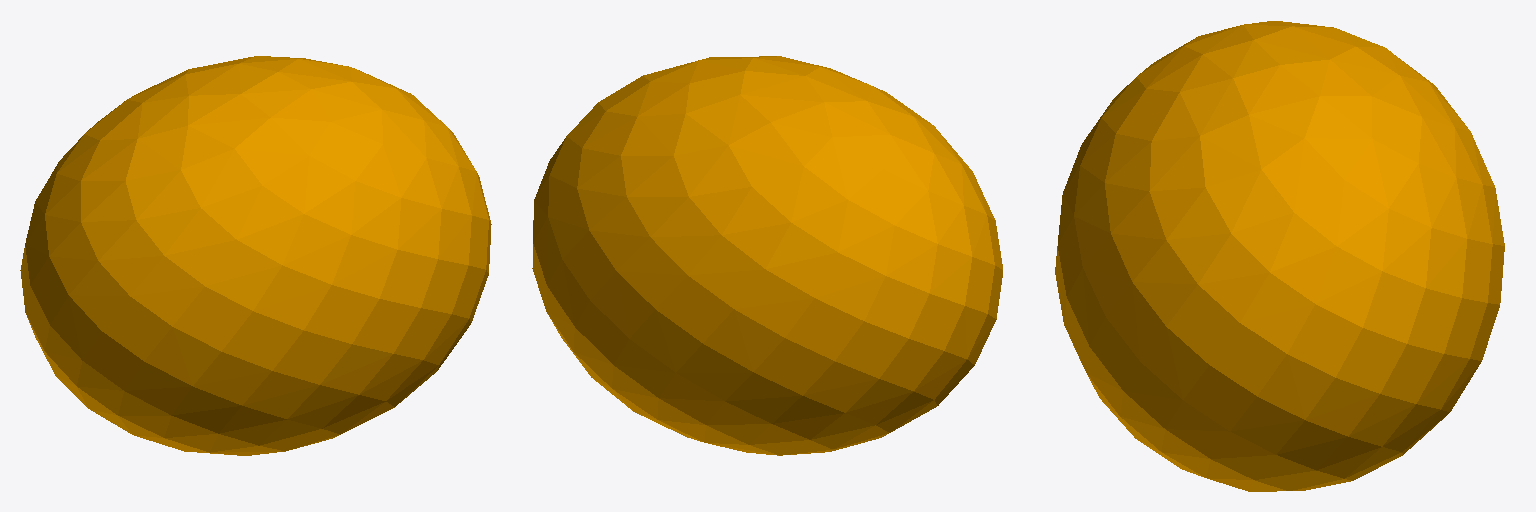
robot.urdf — object:
<?xml version="1.0"?>
<robot name="object">
  <link name="object">
    <visual>
      <origin xyz="0 0 0"/>
      <geometry>
        <mesh filename="meshes/set2/ball_4.obj" scale=".03 .03 .03"/>
      </geometry>
    </visual>
    <collision>
  <origin xyz="0 0 0"/>
  <geometry>
    <mesh filename="meshes/set2/ball_4_0decompose.obj" scale=".03 .03 .03"/>
  </geometry>
</collision>
    <inertial>
      <density value="1000.0"/>
    </inertial>
  </link>
</robot>

--- Facts derived from the render (not from the file) ---
Views: 3 orthographic renders of the robot side by side, from view 1: azimuth 30°, elevation 25°; view 2: azimuth 150°, elevation 25°; view 3: azimuth 270°, elevation 25°.
Robot: object — 1 links, 0 joints (none); root link object; default pose: every joint at zero.
Visible links, largest first — view 1: object; view 2: object; view 3: object.
Link boxes in pixels (box(x1,y1,x2,y2)): object: box(20, 56, 491, 455); object: box(532, 56, 1002, 455); object: box(1055, 21, 1504, 491).
Size in the robot's own frame: 0.0597 by 0.0478 by 0.0478 metres.
Meshes: 1 distinct files referenced, 1 mesh visuals loaded (1 OBJ).
